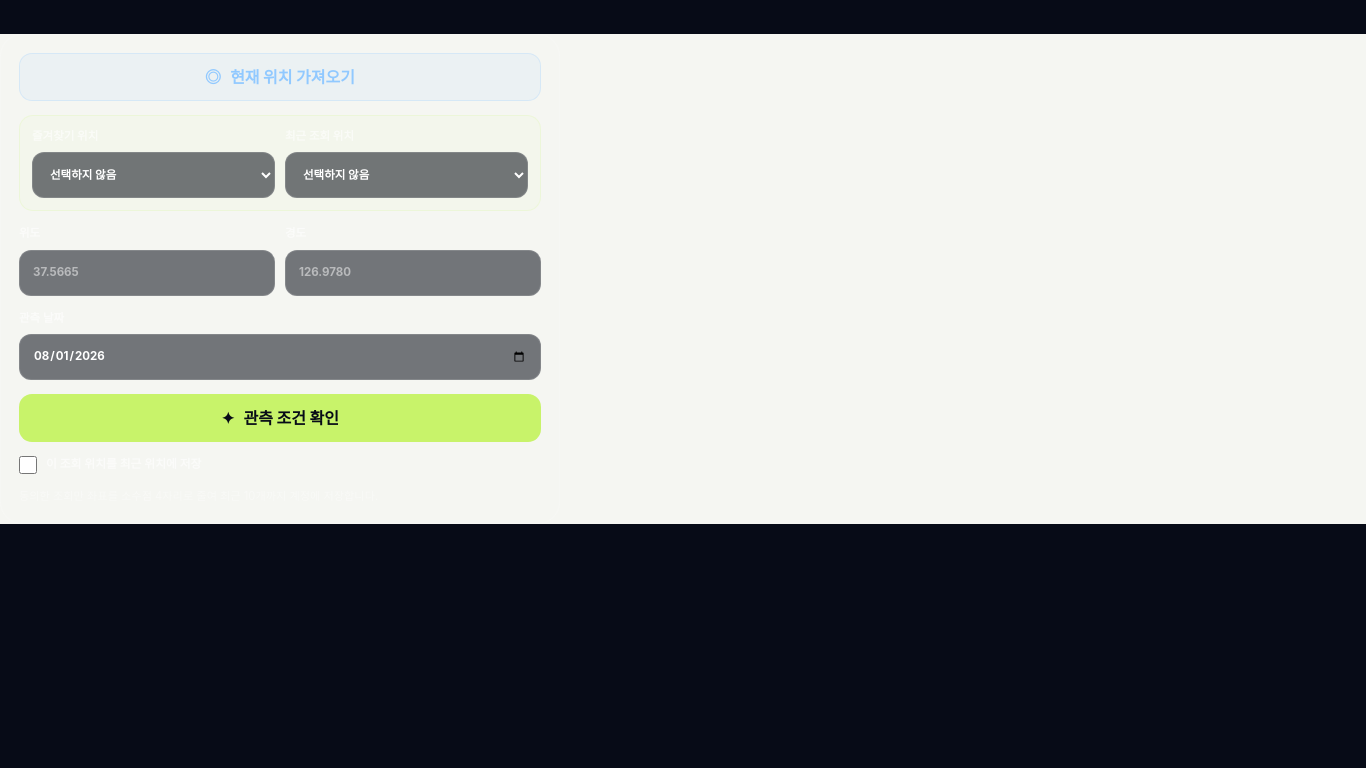
Test: ObservationSearchForm › reuses saved coordinates and keeps recent storage opt-in
The width and height of the screenshot is (1366, 768).
Select "부산 관측지 · Asia/Seoul" in the dropdown named "즐겨찾기 관측 위치" at (154, 175), box [32,152,275,198]
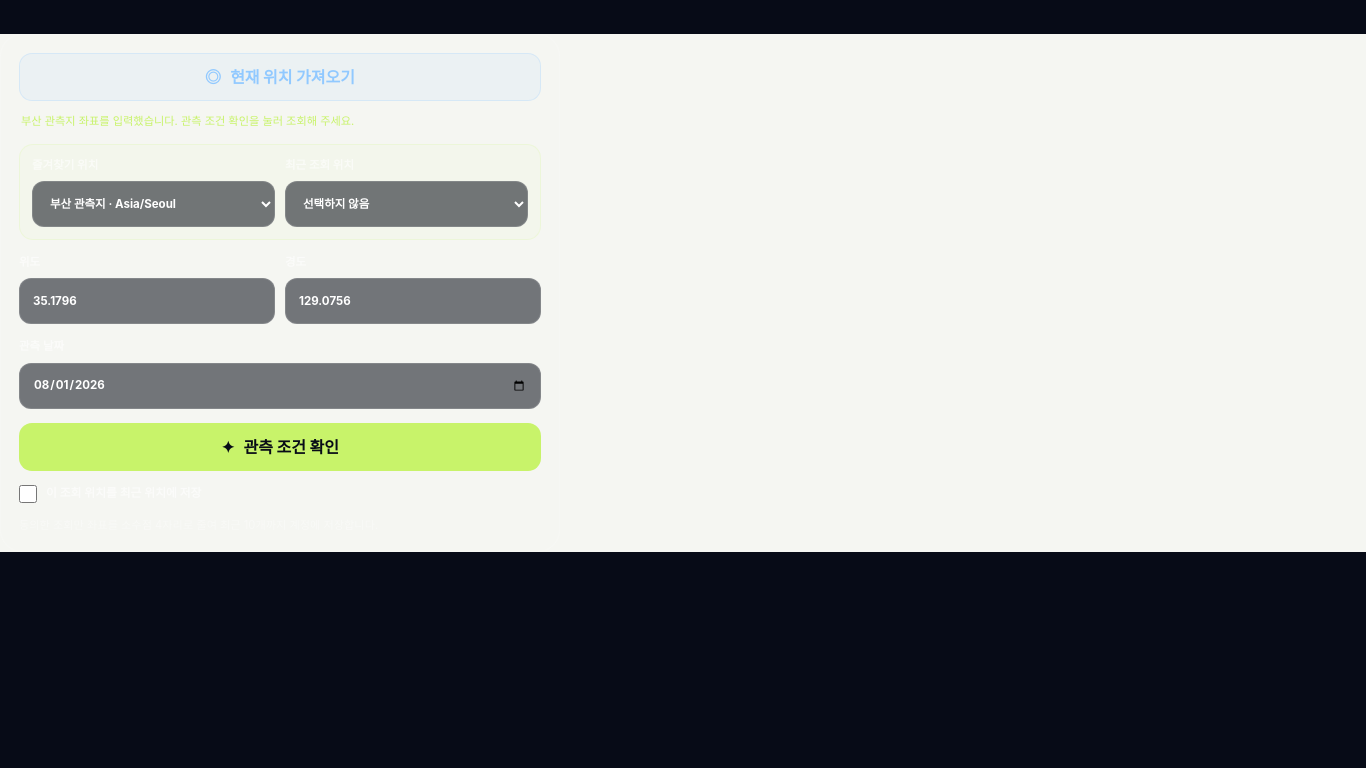
Expected: the checkbox labelled "이 조회 위치를 최근 위치에 저장" is not checked, [19,485,37,503]
Expected: the number field labelled "위도" holds "35.1796", [19,278,275,324]
Expected: the number field labelled "경도" holds "129.0756", [285,278,541,324]
